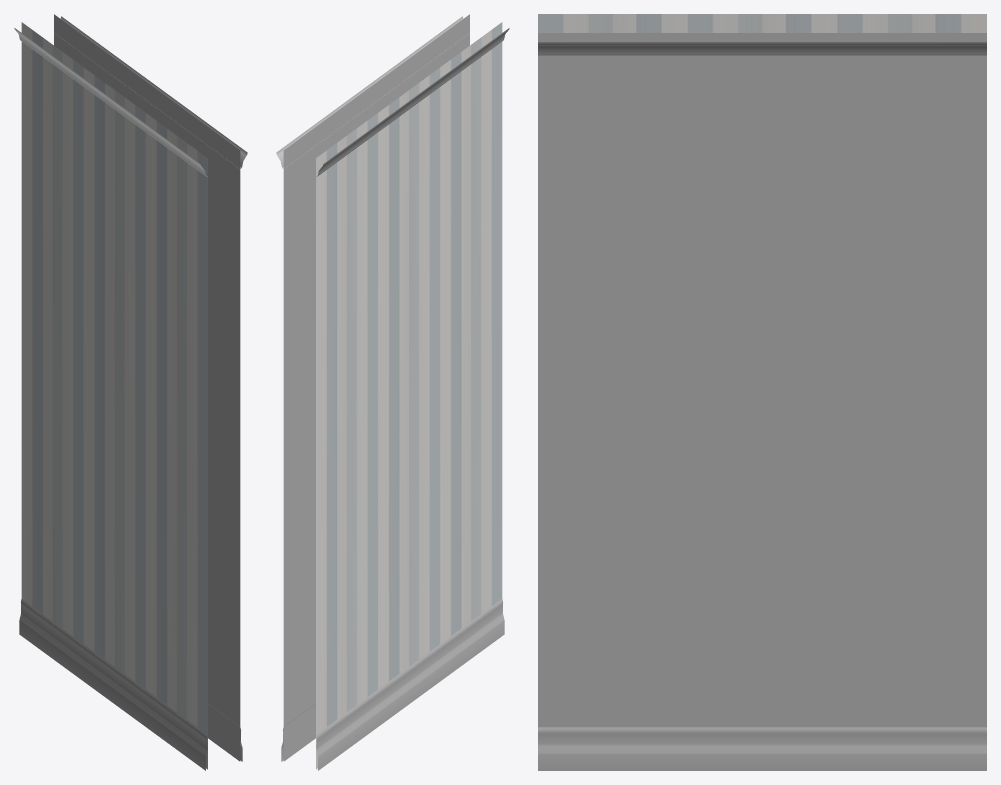
File: Wall_A_Inside_200.fbx
3 renders of one model, left to right at view 1: azimuth 30°, elevation 25°; view 2: azimuth 150°, elevation 25°; view 3: azimuth 270°, elevation 25°, orthographic. The views are drawn at different scales.
Visible parts, largest first — view 1: Wall_A_Inside_200; view 2: Wall_A_Inside_200; view 3: Wall_A_Inside_200.
Part boxes in pixels (bbox=[...]): Wall_A_Inside_200: bbox=[14, 14, 247, 770]; Wall_A_Inside_200: bbox=[276, 14, 509, 770]; Wall_A_Inside_200: bbox=[538, 14, 986, 770].
Size of the model in its own units: 20.33 by 253 by 140.
